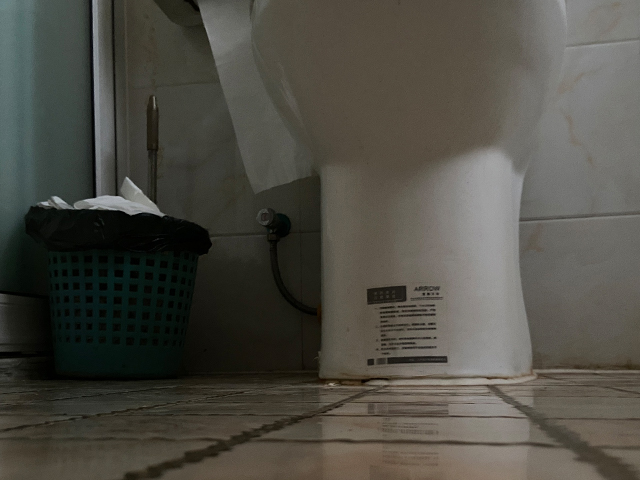trashcan: (23, 204, 215, 383)
